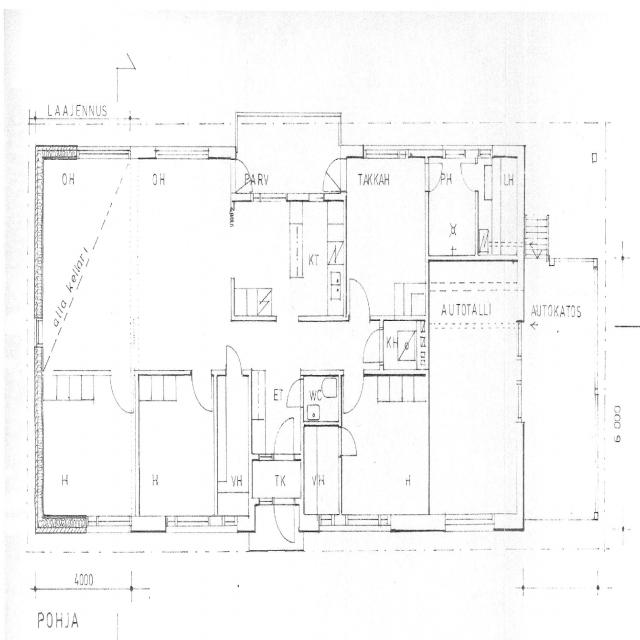door: (445, 514, 470, 578), (470, 514, 494, 578), (45, 370, 68, 417), (417, 328, 446, 360), (274, 497, 294, 542), (274, 417, 294, 460), (344, 370, 363, 413), (192, 370, 211, 411), (323, 159, 347, 191), (196, 378, 218, 411), (362, 329, 384, 362), (338, 427, 358, 456), (286, 379, 304, 407), (426, 164, 444, 191), (460, 164, 478, 191)
